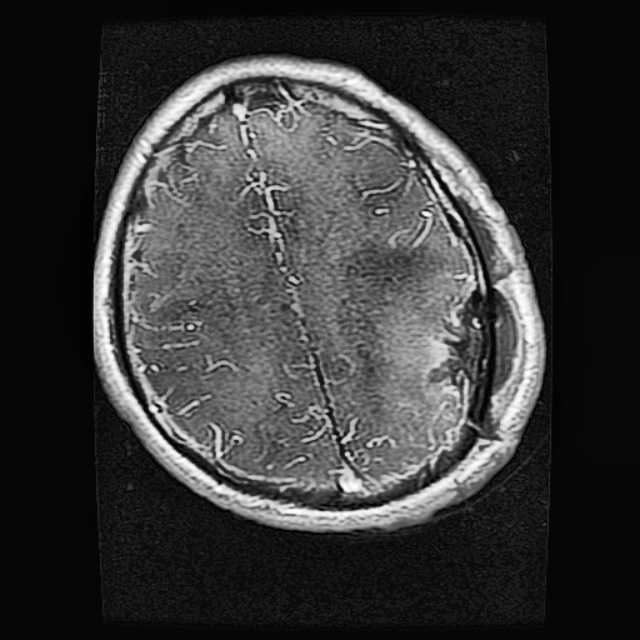Pituitary: (427, 282, 520, 395)
